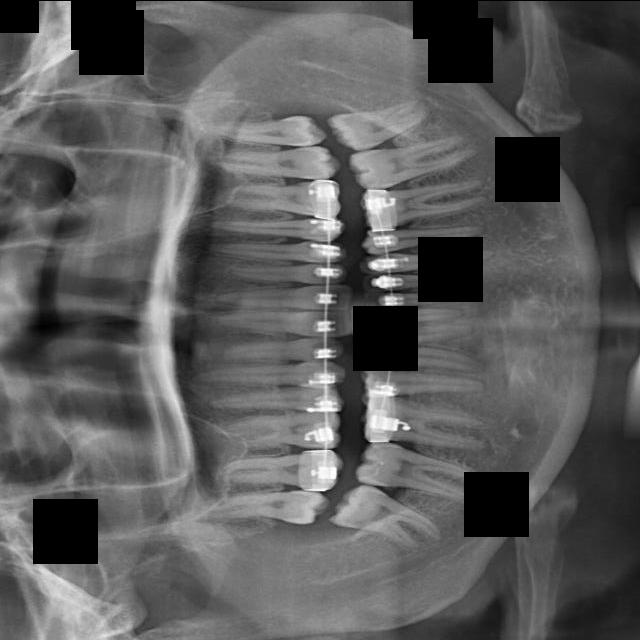3M ESPE Implant: (212, 505, 243, 514)
AGS Medikal Implant: (226, 262, 349, 285)
AMerOss Implant: (201, 239, 350, 262)
Amalgam filling: (202, 217, 344, 242)
Bicon Implant: (219, 178, 341, 221)
BioHorizons Implant: (257, 164, 258, 164)
BioLife Implant: (197, 112, 328, 151)
Biomet 3i Implant: (410, 109, 411, 109)
Blue Sky Bio Implant: (347, 131, 482, 192)
Camlog Implant: (357, 176, 493, 231)
Caries: (217, 448, 345, 496)
Cowellmedi Implant: (359, 223, 486, 254)
Crown: (357, 246, 498, 274)
DENTSPLY Implant: (361, 271, 475, 292)
Dentatus Implant: (361, 289, 467, 309)
Dentis Implant: (361, 303, 467, 328)
Dentium Implant: (362, 322, 476, 347)
Euroteknika Implant: (358, 342, 487, 373)
Filling: (358, 366, 487, 396)
Hiossen Implant: (220, 410, 343, 451)
Implant: (352, 436, 490, 507)
Implant Direct: (356, 393, 492, 451)
Keystone Dental Implant: (327, 475, 451, 557)
Mandible: (204, 384, 347, 413)
Maxilla: (189, 357, 349, 392)
Megagen Implant: (217, 335, 347, 363)
Neodent Implant: (211, 309, 355, 338)
Neoss Implant: (212, 283, 354, 316)
